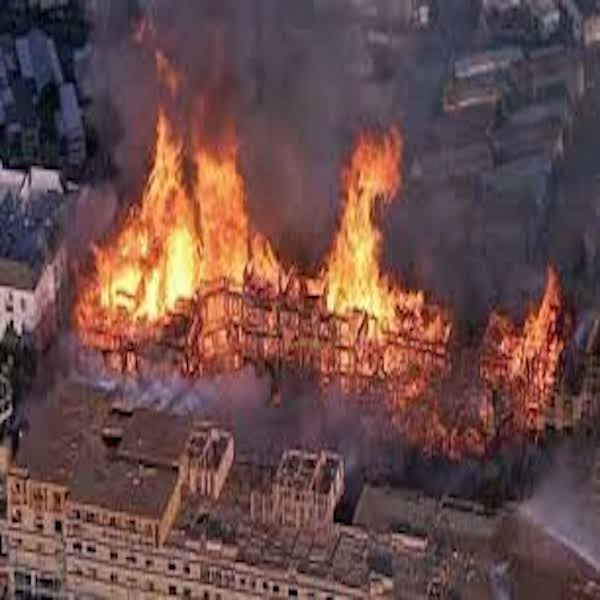fire: (94, 113, 252, 306), (340, 123, 435, 340), (483, 268, 577, 427)
